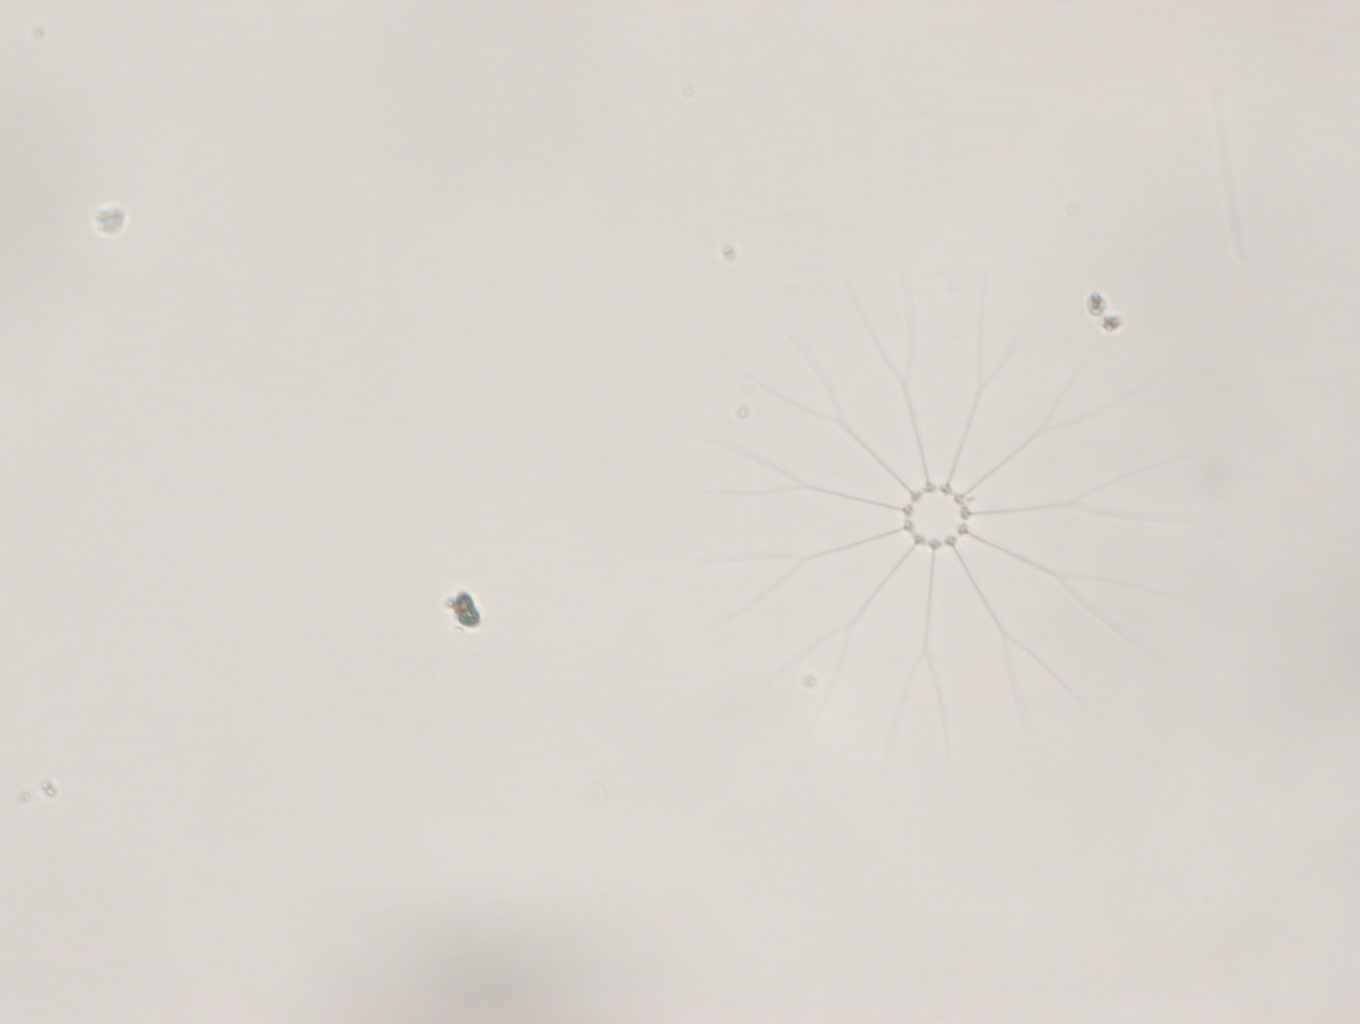bacteriastrum: (708, 269, 1208, 762)
